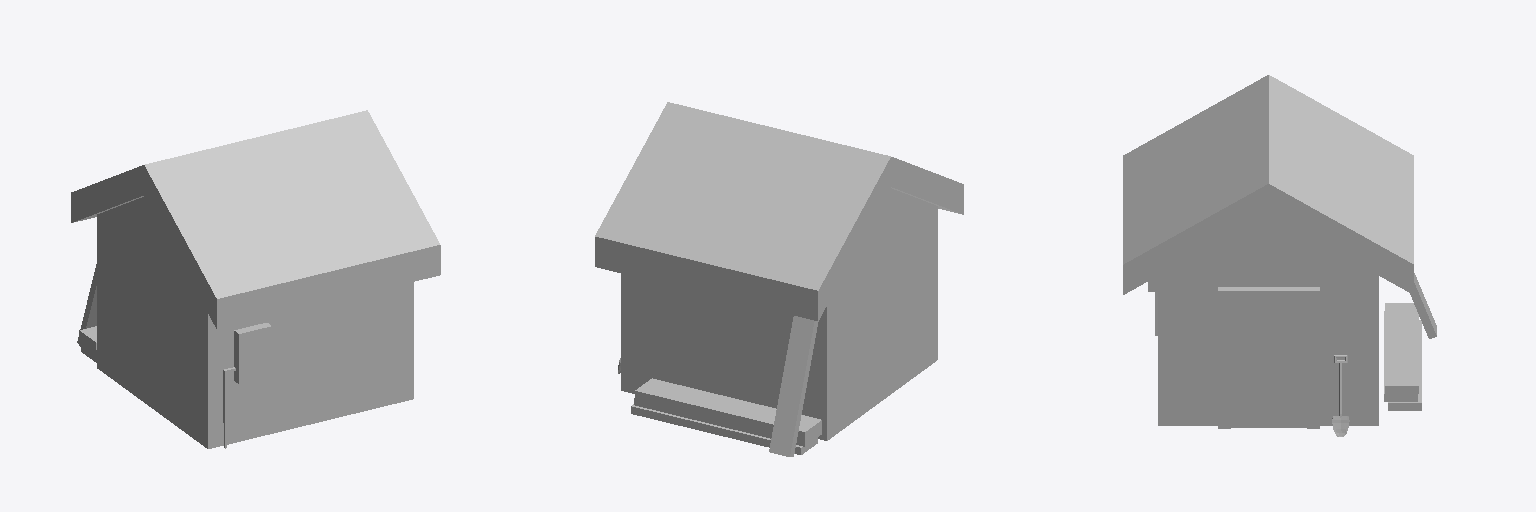
File: shed.obj
The picture shows the model from 3 angles: view 1: azimuth 30°, elevation 25°; view 2: azimuth 150°, elevation 25°; view 3: azimuth 270°, elevation 25°; orthographic projection.
Visible parts, largest first — view 1: pCube4, pCube1, pCube13, pCube12; view 2: pCube4, pCube1, pCube11, pCube12, pCube9, pCube10; view 3: pCube4, pCube1, pCube7, pCube11, pCube12, pCube9.
Part boxes in pixels (bbox=[...]): pCube4: bbox=[71, 110, 440, 329]; pCube1: bbox=[97, 196, 413, 448]; pCube13: bbox=[234, 323, 271, 384]; pCube12: bbox=[77, 264, 96, 346]; pCube4: bbox=[595, 102, 963, 320]; pCube1: bbox=[621, 188, 937, 440]; pCube11: bbox=[635, 378, 821, 439]; pCube12: bbox=[769, 316, 818, 456]; pCube9: bbox=[631, 404, 817, 454]; pCube10: bbox=[634, 398, 821, 446]; pCube4: bbox=[1123, 75, 1413, 294]; pCube1: bbox=[1158, 214, 1378, 425]; pCube7: bbox=[1218, 287, 1319, 428]; pCube11: bbox=[1385, 303, 1418, 393]; pCube12: bbox=[1410, 273, 1436, 338]; pCube9: bbox=[1388, 320, 1421, 410].
Bounding box in the file's own units: 7.98 × 8.05 × 9.23.